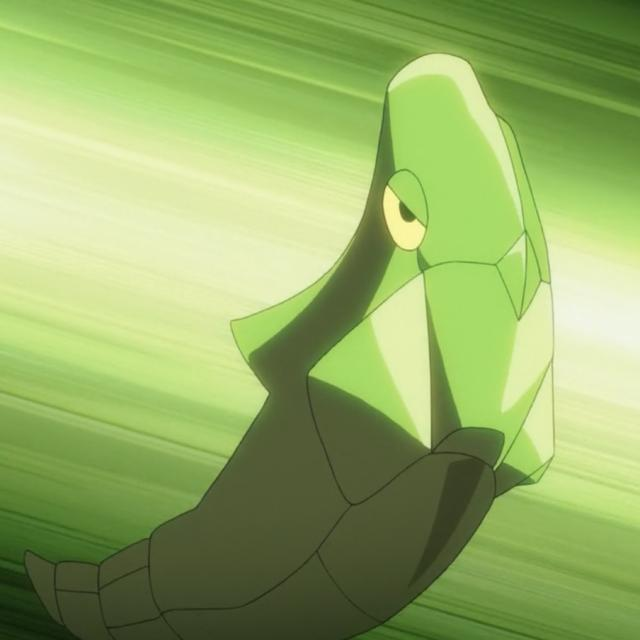Metapod: (209, 47, 558, 640)
